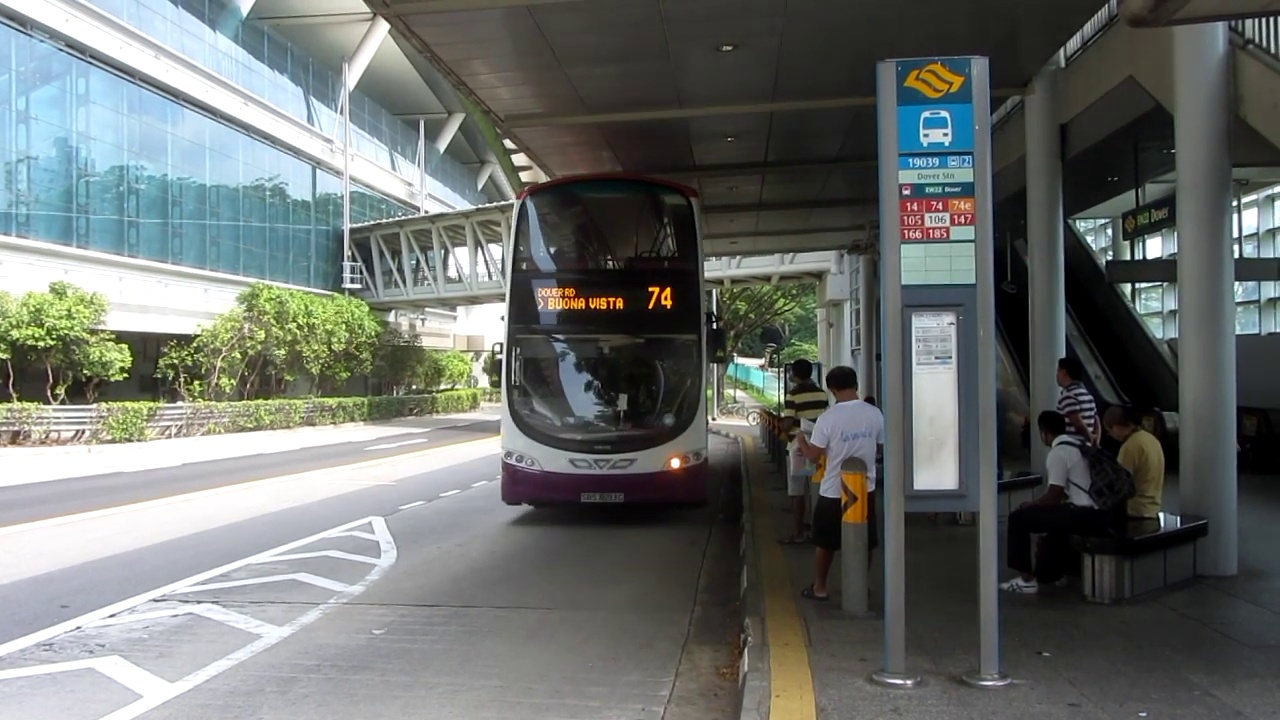bus panel: (525, 283, 679, 317)
